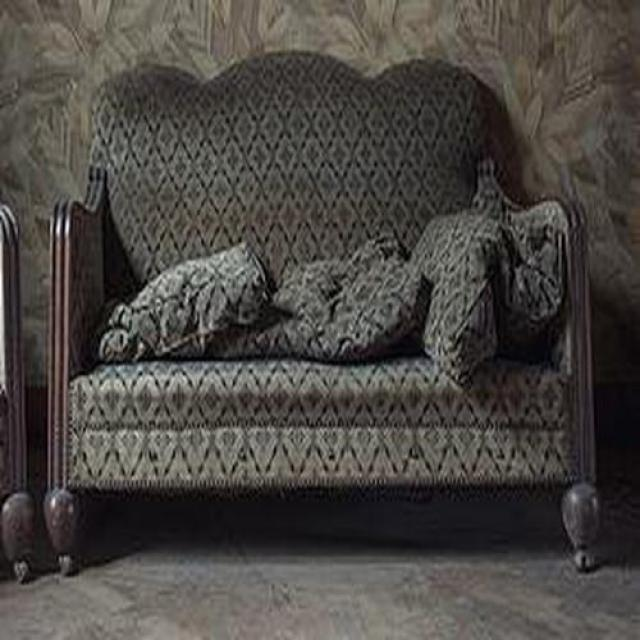sofa: (42, 52, 599, 570)
